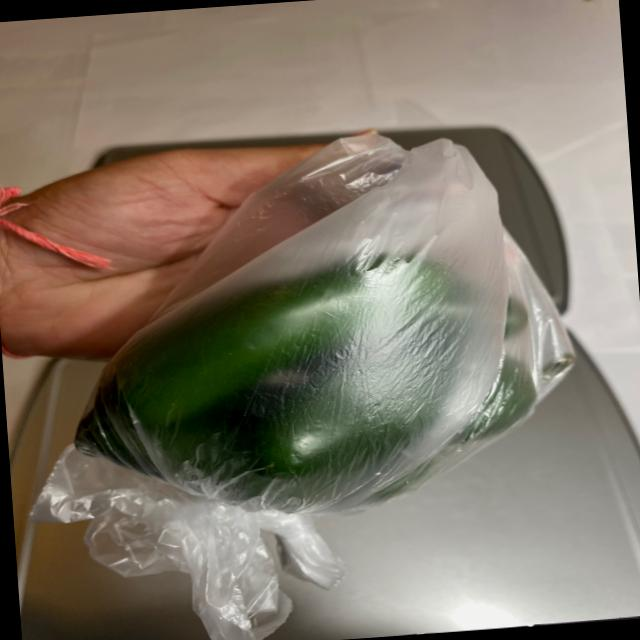chilli: (51, 220, 614, 528)
